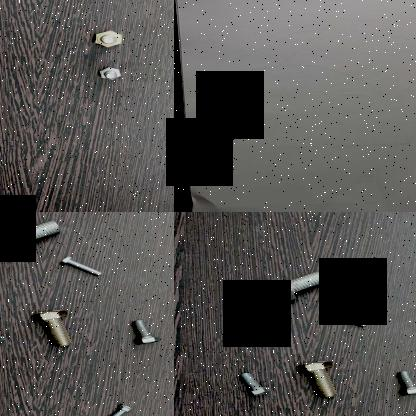Bolts: (290, 359, 346, 406), (260, 270, 328, 306), (29, 306, 81, 350), (0, 220, 61, 254), (322, 306, 370, 330), (236, 372, 274, 402), (53, 256, 104, 278), (126, 317, 160, 348), (388, 368, 416, 401), (92, 29, 126, 49), (90, 402, 135, 416), (92, 66, 128, 82), (0, 317, 9, 345)
